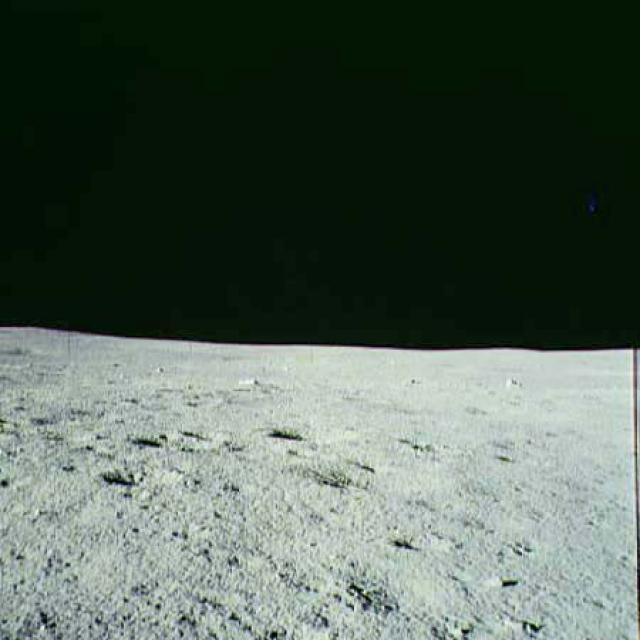crater: (242, 417, 372, 449), (93, 456, 157, 504), (384, 517, 450, 558), (129, 422, 198, 453)
